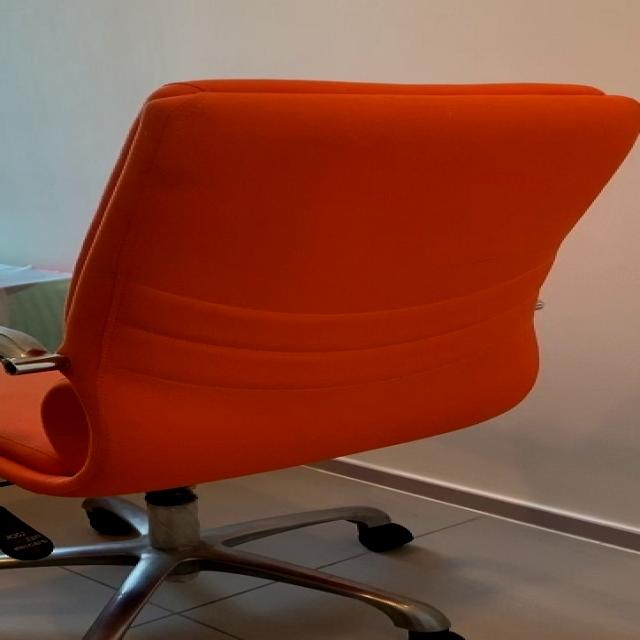Chair: (4, 77, 640, 640)
